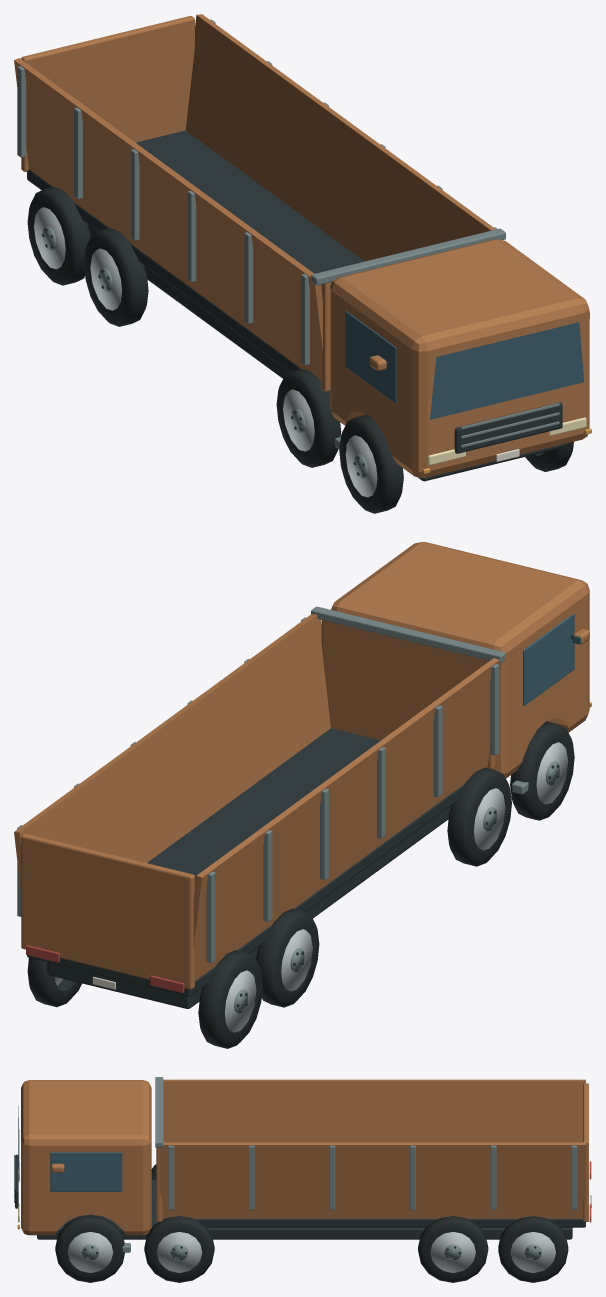
The model's file is original-truck-heavy-dump-08.glb.
The picture shows the model from 3 angles, top to bottom: view 1: azimuth 30°, elevation 25°; view 2: azimuth 150°, elevation 25°; view 3: azimuth 270°, elevation 25°; orthographic projection. The views are drawn at different scales.
Visible parts, largest first — view 1: TruckCab, DumpSide.001, DumpSide, DumpEndWall.001, DumpFloor, TruckWindscreen, Tyre_A3R, Tyre_A2R, Tyre_RR, Tyre_FR, CabSideGlass, Frame (+14 smaller); view 2: DumpSide.001, DumpSide, TruckCab, DumpEndWall.001, DumpFloor, DumpEndWall, Frame, Tyre_A2R, Tyre_RR, Tyre_A3R, Tyre_FR, CabSideGlass (+12 smaller); view 3: DumpSide.001, DumpSide, TruckCab, Frame, CabSideGlass.001, DumpFloor, Tyre_FL, Tyre_A2L, Tyre_RL, Tyre_A3L, Rim_A2L, Rim_FL (+11 smaller).
Part boxes in pixels (x1,y1,x2,y2): TruckCab: (330, 239, 589, 477); DumpSide.001: (185, 14, 495, 261); DumpSide: (14, 58, 322, 381); DumpEndWall.001: (21, 16, 194, 171); DumpFloor: (27, 130, 364, 391); TruckWindscreen: (430, 322, 583, 419); Tyre_A3R: (84, 228, 148, 326); Tyre_A2R: (276, 369, 341, 467); Tyre_RR: (27, 186, 90, 285); Tyre_FR: (339, 414, 403, 513); CabSideGlass: (345, 311, 396, 403); Frame: (88, 224, 564, 481); DumpSide.001: (14, 614, 330, 894); DumpSide: (193, 658, 501, 980); TruckCab: (331, 542, 589, 778); DumpEndWall.001: (21, 833, 194, 989); DumpFloor: (27, 728, 487, 996); DumpEndWall: (321, 620, 495, 769); Frame: (47, 805, 451, 1008); Tyre_A2R: (447, 767, 511, 866); Tyre_RR: (198, 950, 262, 1048); Tyre_A3R: (256, 908, 319, 1007); Tyre_FR: (510, 721, 574, 820); CabSideGlass: (523, 613, 574, 705); DumpSide.001: (159, 1142, 585, 1218); DumpSide: (163, 1079, 585, 1142); TruckCab: (21, 1080, 151, 1235); Frame: (37, 1179, 572, 1239); CabSideGlass.001: (50, 1152, 122, 1191); DumpFloor: (162, 1219, 585, 1227); Tyre_FL: (55, 1215, 124, 1282); Tyre_A2L: (144, 1216, 214, 1282); Tyre_RL: (498, 1216, 568, 1282); Tyre_A3L: (418, 1216, 488, 1282); Rim_A2L: (156, 1232, 202, 1272); Rim_FL: (67, 1232, 113, 1272).
Size of the model in its own units: 2.95 by 2.67 by 9.74.
